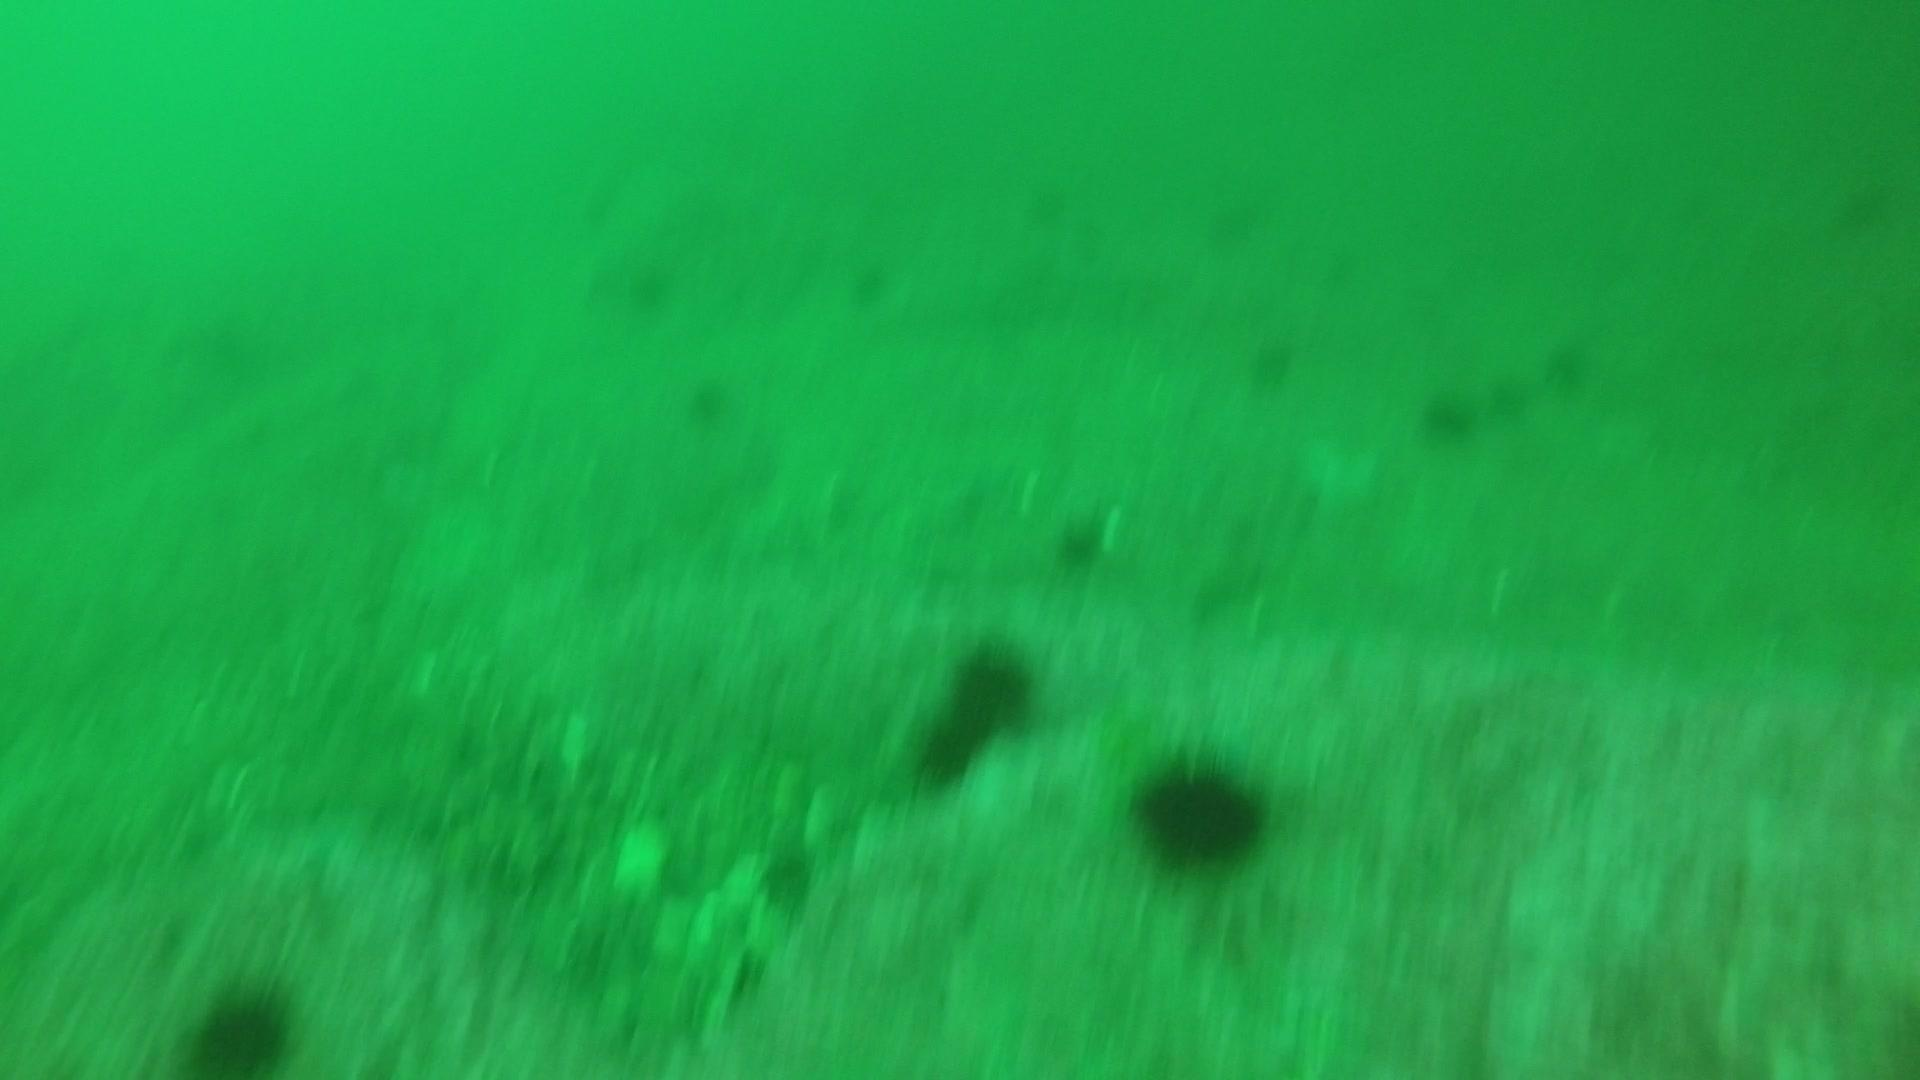echinus: (1125, 745, 1274, 873), (183, 980, 299, 1073), (945, 640, 1042, 735), (887, 695, 982, 791), (1415, 384, 1482, 446), (1050, 510, 1112, 572), (1242, 332, 1300, 392), (568, 255, 626, 313), (1542, 334, 1597, 394), (680, 372, 738, 429), (1048, 214, 1106, 270), (1215, 203, 1273, 260), (848, 260, 905, 316), (1022, 186, 1079, 243), (630, 262, 687, 319), (564, 174, 621, 231), (1484, 369, 1534, 425)
